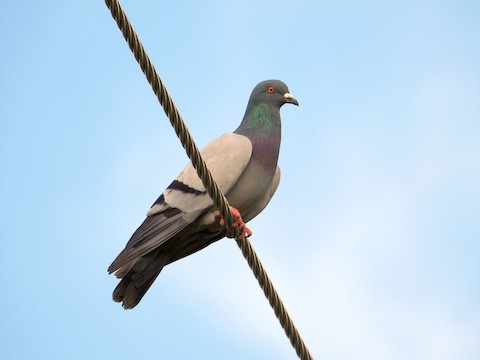pigeon: (103, 67, 304, 313)
